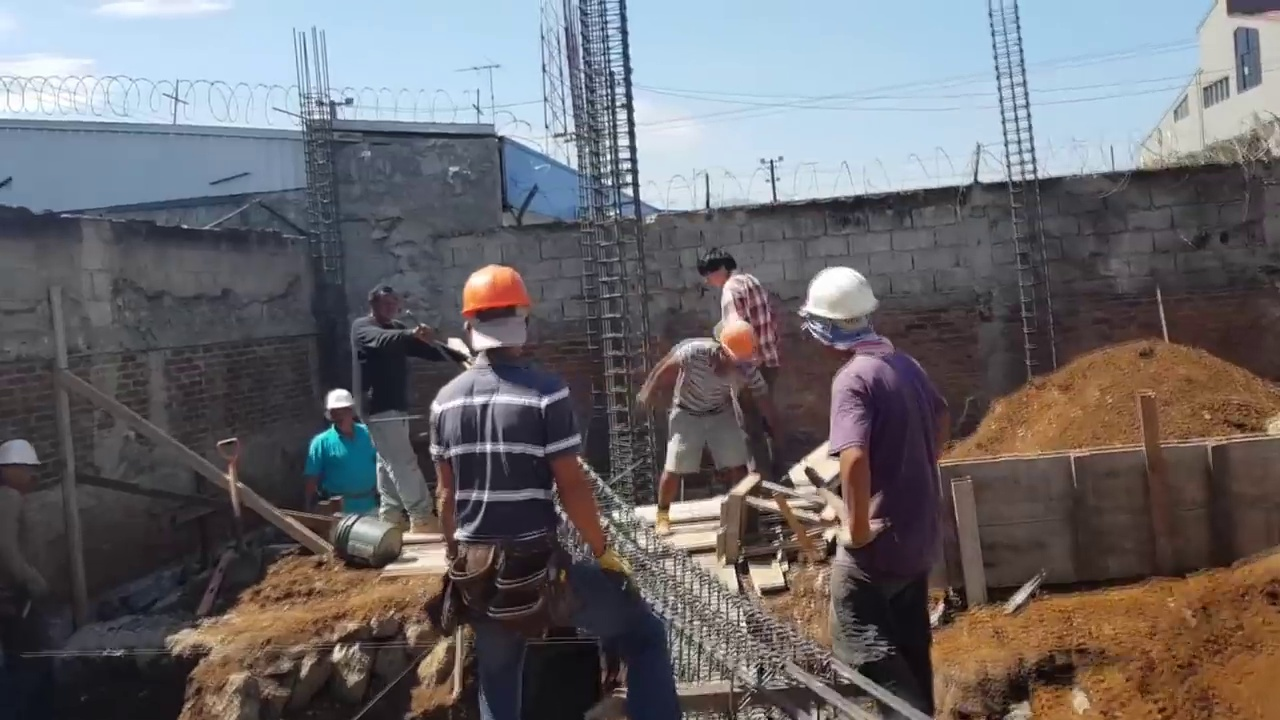helmet: (800, 261, 881, 319), (457, 268, 536, 324), (721, 320, 757, 365), (0, 438, 41, 468), (324, 389, 355, 412)
helmet-off: (699, 248, 742, 295), (361, 289, 401, 325)
helmet-on: (457, 267, 537, 366), (802, 263, 887, 354), (716, 319, 757, 375), (0, 437, 43, 489), (324, 389, 358, 435)
person: (422, 262, 635, 710), (810, 268, 950, 691), (635, 319, 766, 535), (352, 282, 444, 546), (700, 249, 785, 463), (298, 386, 381, 519), (0, 437, 50, 649)
